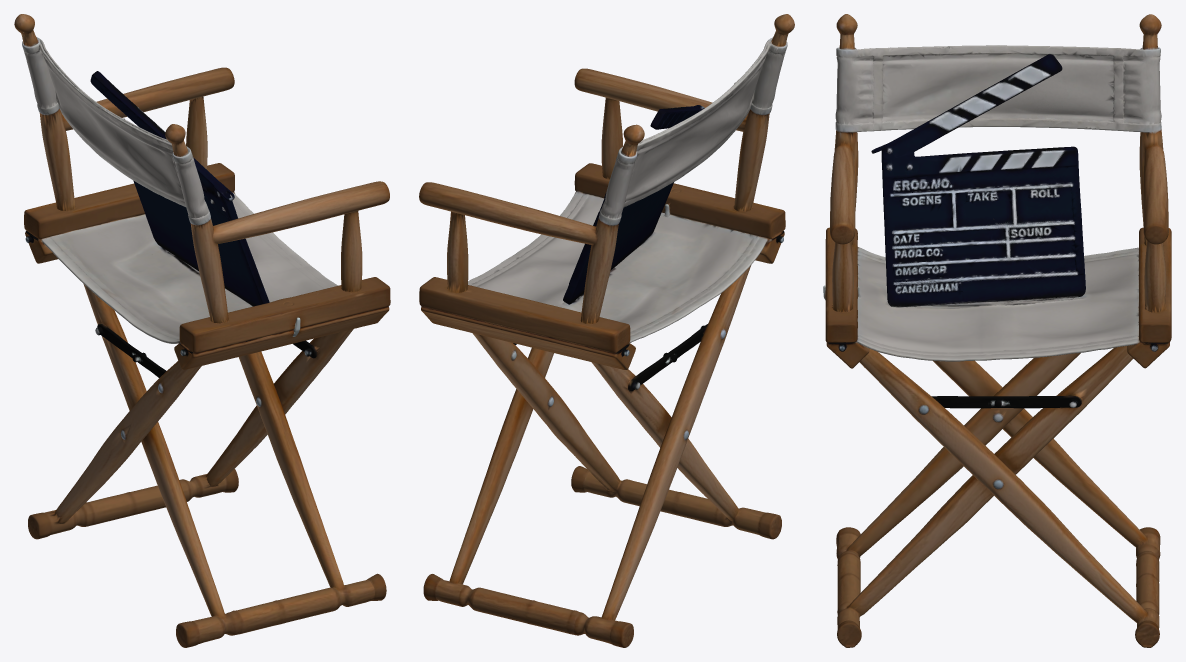
File: director_chair.glb
The picture shows the model from 3 angles, left to right: view 1: azimuth 30°, elevation 25°; view 2: azimuth 150°, elevation 25°; view 3: azimuth 270°, elevation 25°; orthographic projection.
Parts seen in each view (by area): view 1: tripo_node_21f65717-0523-447d-b934-4be5546dddea; view 2: tripo_node_21f65717-0523-447d-b934-4be5546dddea; view 3: tripo_node_21f65717-0523-447d-b934-4be5546dddea.
Boxes of the visible parts, box(x1,y1,x2,y2) form: tripo_node_21f65717-0523-447d-b934-4be5546dddea: box(14, 14, 390, 647); tripo_node_21f65717-0523-447d-b934-4be5546dddea: box(419, 14, 794, 647); tripo_node_21f65717-0523-447d-b934-4be5546dddea: box(823, 14, 1171, 647).
Bounding box in the file's own units: 0.3691 × 0.85 × 0.5052.
1 material, 1 textured.
